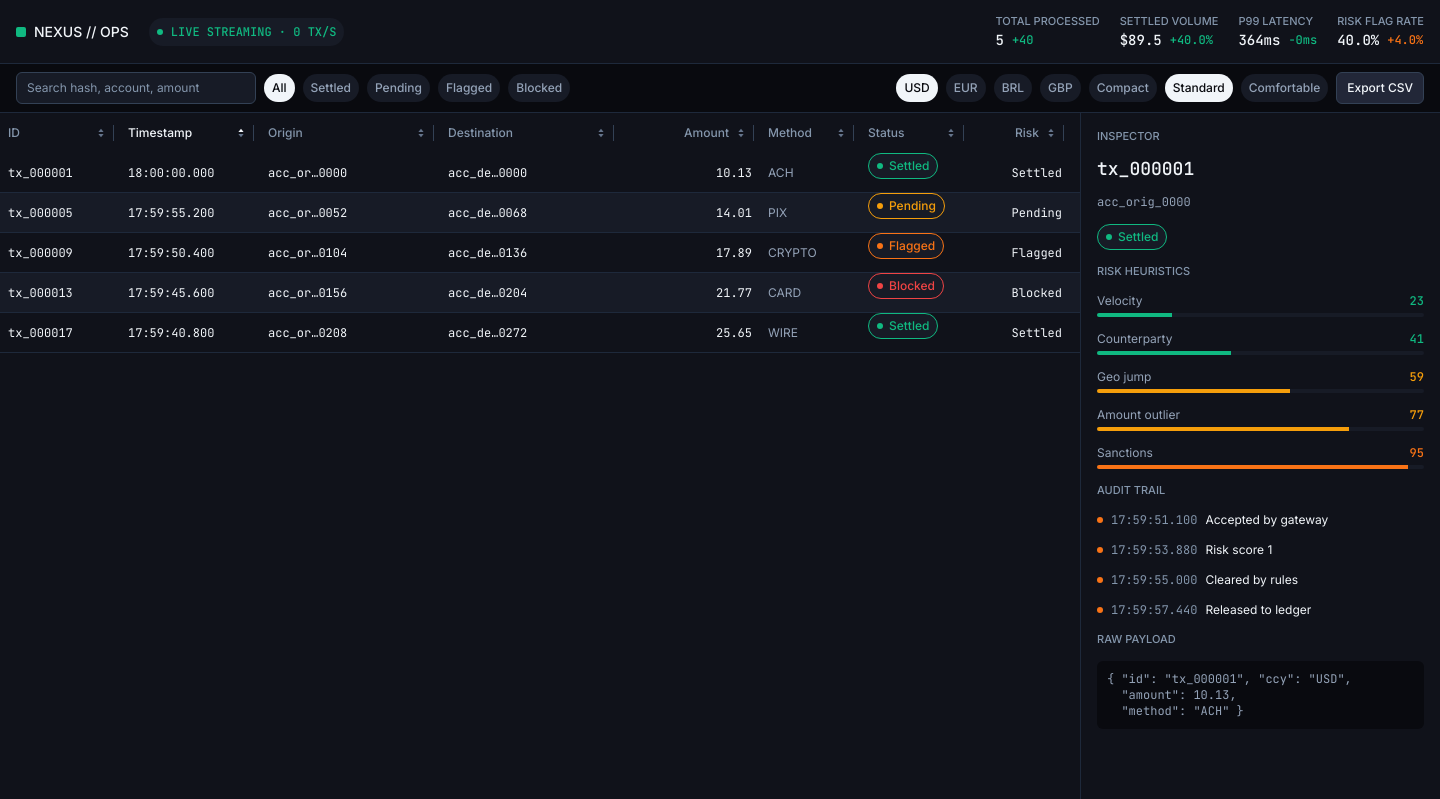
Scenario: console flow › reveals the other currencies when USD is toggled off
Click the button "USD". click: [917, 88]
box: left=896, top=74, right=938, bottom=102
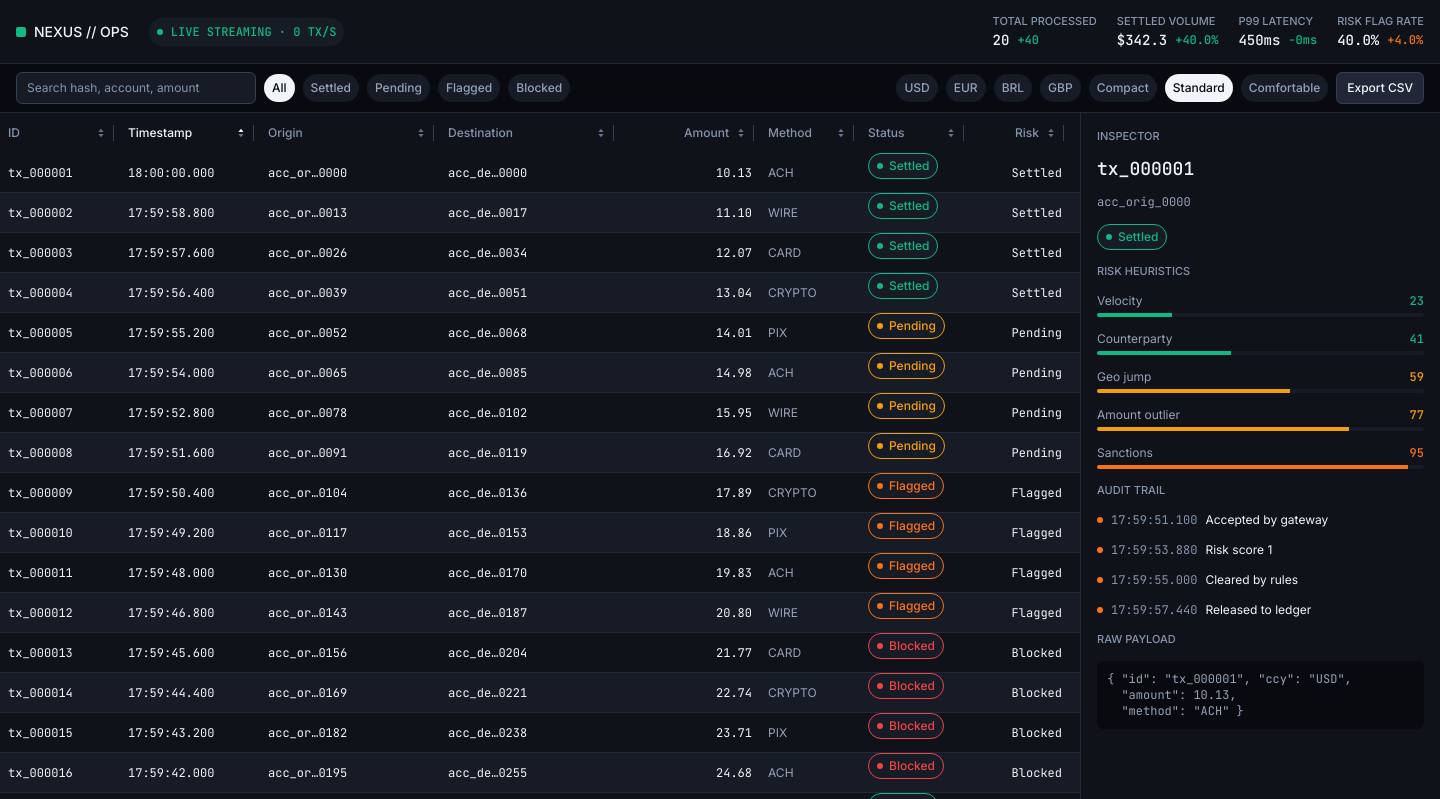
Result: the cell "tx_000002" is shown at left=8, top=204, right=73, bottom=220
